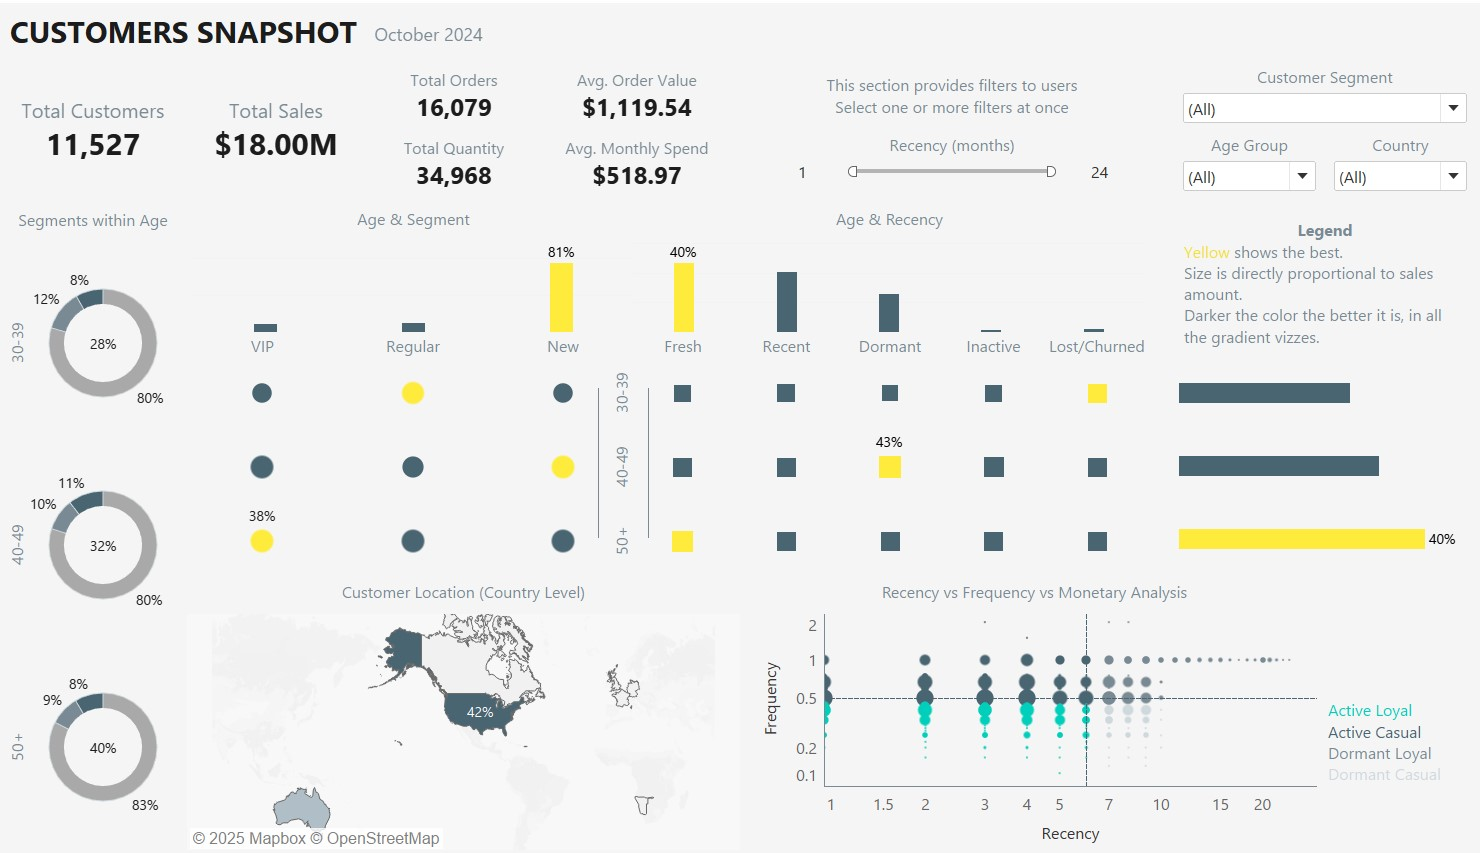

Layout of this report page (visuals, bound fields, positions):
{"tool":"tableau","page":{"name":"Customer Snapshot","canvas":[1500,870],"ordinal":0},"visuals":[{"type":"title","box":[12,12,1476,48]},{"type":"worksheet","title":"Current Month","mark":"Automatic","box":[380,23,285,31]},{"type":"worksheet","title":"Total Customers","mark":"Automatic","box":[18,71,170,128]},{"type":"worksheet","title":"Total Sales","mark":"Automatic","box":[201,71,170,128]},{"type":"worksheet","title":"Total Orders","mark":"Automatic","box":[379,71,170,60]},{"type":"worksheet","title":"Avg Order Value","mark":"Automatic","box":[562,71,170,60]},{"type":"text","box":[771,71,382,60]},{"type":"filter","title":"Total Customers","param":"[federated.01ng4zx0pgjx1h1ej192u1oitzen].[none:customer_segment:nk]","box":[1190,71,290,60]},{"type":"worksheet","title":"Total Quantity","mark":"Automatic","box":[379,139,170,60]},{"type":"worksheet","title":"Avg Monthly Spend","mark":"Automatic","box":[562,139,170,60]},{"type":"filter","title":"Total Customers","param":"[federated.01ng4zx0pgjx1h1ej192u1oitzen].[none:recency:qk]","box":[771,139,382,60]},{"type":"filter","title":"Total Customers","param":"[federated.01ng4zx0pgjx1h1ej192u1oitzen].[none:age_group:nk]","box":[1190,139,139,60]},{"type":"filter","title":"Total Customers","param":"[federated.01ng4zx0pgjx1h1ej192u1oitzen].[none:country:nk]","box":[1341,139,139,60]},{"type":"worksheet","title":"Segment-wise distribution","mark":"Bar","rows":["customer_key"],"cols":["customer_segment"],"box":[201,209,445,129]},{"type":"worksheet","title":"Recency buckets distribution","mark":"Bar","rows":["customer_key"],"cols":["Calculation_2302746849601585158"],"box":[643,209,513,129]},{"type":"worksheet","title":"Cust Segmentation","mark":"Pie","rows":["age_group"],"cols":["Calculation_2302746849353383940","Calculation_2302746849353383940"],"box":[18,210,170,643]},{"type":"text","box":[1190,222,290,136]},{"type":"worksheet","title":"Age vs Segment","mark":"Shape","rows":["age_group"],"cols":["customer_segment"],"box":[197,341,452,242]},{"type":"worksheet","title":"Age vs Recency bins","mark":"Square","rows":["age_group"],"cols":["Calculation_2302746849601585158"],"box":[621,341,538,242]},{"type":"worksheet","title":"Age-wise distribution","mark":"Bar","rows":["age_group"],"cols":["customer_key"],"box":[1188,361,295,221]},{"type":"blank","box":[608,393,1,150]},{"type":"blank","box":[658,393,1,150]},{"type":"worksheet","title":"Map Distribution","mark":"Automatic","box":[197,582,553,274]},{"type":"worksheet","title":"Recency vs Frequency","mark":"Automatic","rows":["Calculation_2302746849636757519"],"cols":["recency"],"box":[762,582,565,274]},{"type":"text","box":[1334,702,149,92]}]}

Visuals, with their boxes in screenshot pixels (x1, y1, x2, y2), scaled from the page's 1500x870 canvas onto the 1480x853 screenshot:
title: select_region(12, 12, 1468, 59)
"Current Month" worksheet: select_region(375, 23, 656, 53)
"Total Customers" worksheet: select_region(18, 70, 185, 195)
"Total Sales" worksheet: select_region(198, 70, 366, 195)
"Total Orders" worksheet: select_region(374, 70, 542, 128)
"Avg Order Value" worksheet: select_region(555, 70, 722, 128)
text: select_region(761, 70, 1138, 128)
"Total Customers" filter: select_region(1174, 70, 1460, 128)
"Total Quantity" worksheet: select_region(374, 136, 542, 195)
"Avg Monthly Spend" worksheet: select_region(555, 136, 722, 195)
"Total Customers" filter: select_region(761, 136, 1138, 195)
"Total Customers" filter: select_region(1174, 136, 1311, 195)
"Total Customers" filter: select_region(1323, 136, 1460, 195)
"Segment-wise distribution" worksheet (Bar marks): select_region(198, 205, 637, 331)
"Recency buckets distribution" worksheet (Bar marks): select_region(634, 205, 1141, 331)
"Cust Segmentation" worksheet (Pie marks): select_region(18, 206, 185, 836)
text: select_region(1174, 218, 1460, 351)
"Age vs Segment" worksheet (Shape marks): select_region(194, 334, 640, 572)
"Age vs Recency bins" worksheet (Square marks): select_region(613, 334, 1144, 572)
"Age-wise distribution" worksheet (Bar marks): select_region(1172, 354, 1463, 571)
blank: select_region(600, 385, 601, 532)
blank: select_region(649, 385, 650, 532)
"Map Distribution" worksheet: select_region(194, 571, 740, 839)
"Recency vs Frequency" worksheet: select_region(752, 571, 1309, 839)
text: select_region(1316, 688, 1463, 778)
